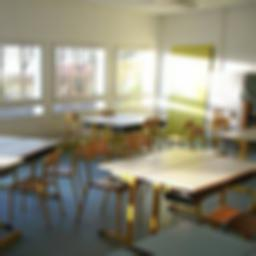Puerta: (168, 46, 215, 135)
